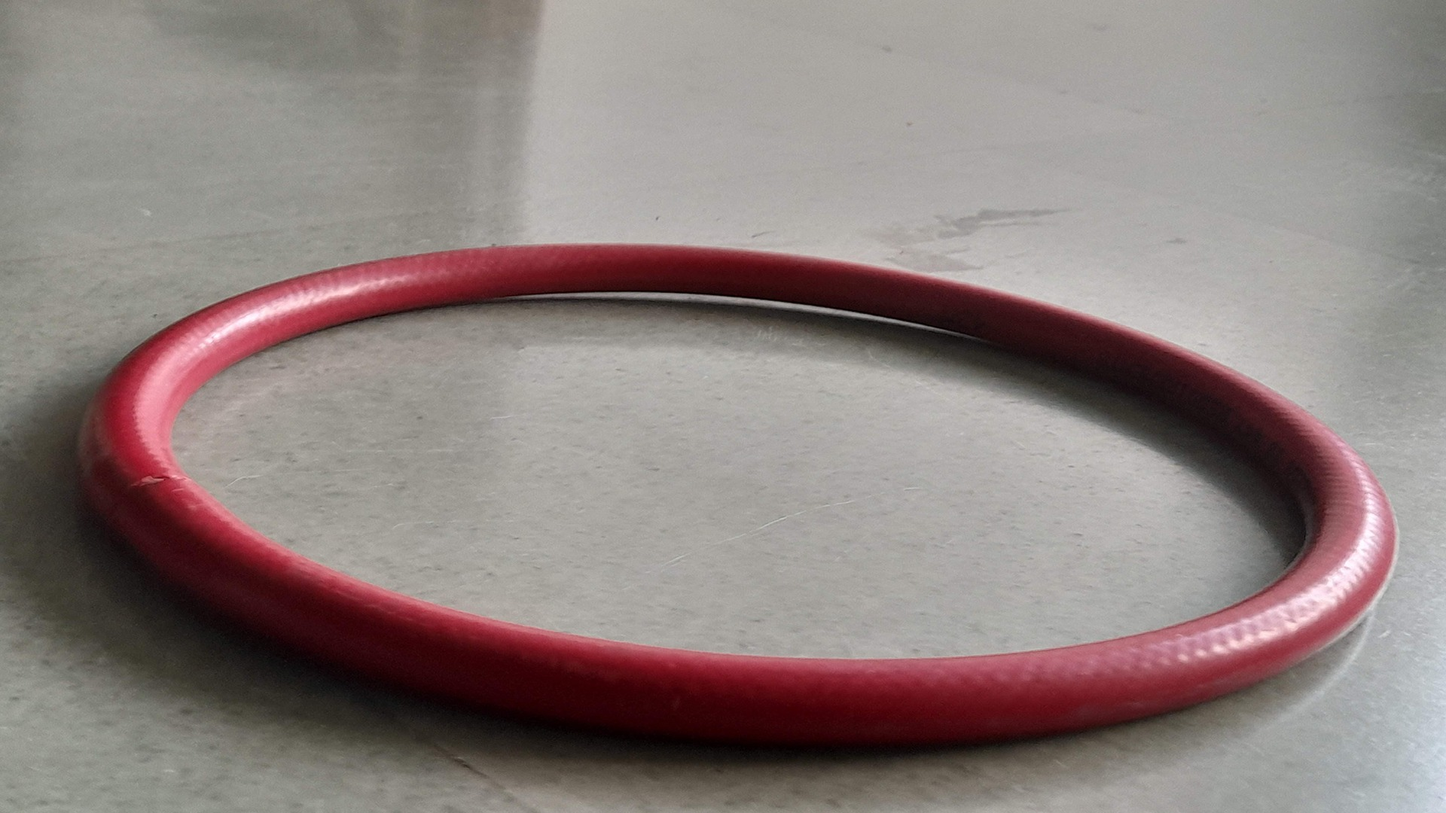Red ring: (75, 245, 1386, 748)
